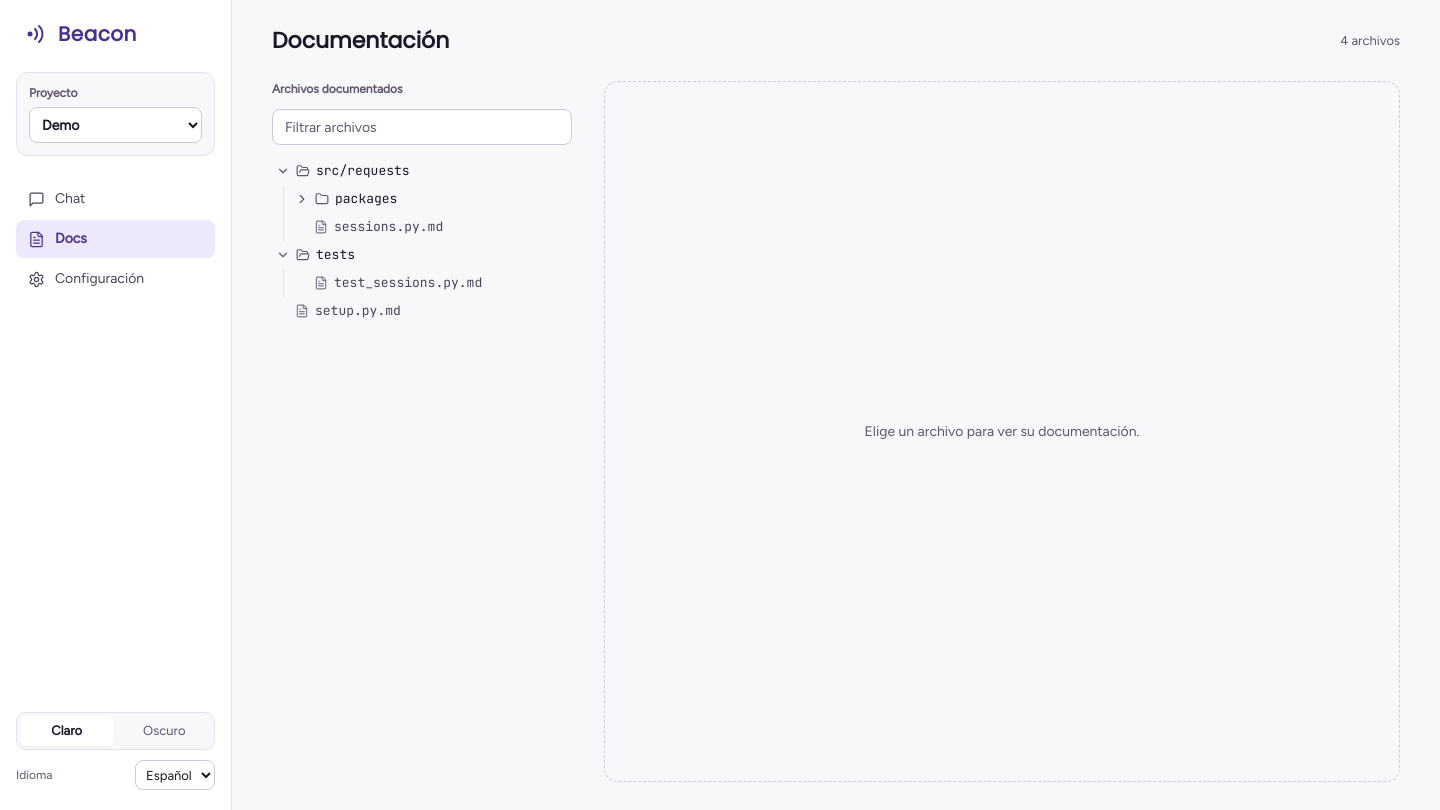
Scenario: documentación: árbol › al filtrar muestra también lo que está en carpetas cerradas
Expected: the button "src/requests" is shown, [272, 157, 572, 185]
Type "compat" into the search field labelled "Filtrar archivos" at (422, 127), box [272, 109, 572, 145]
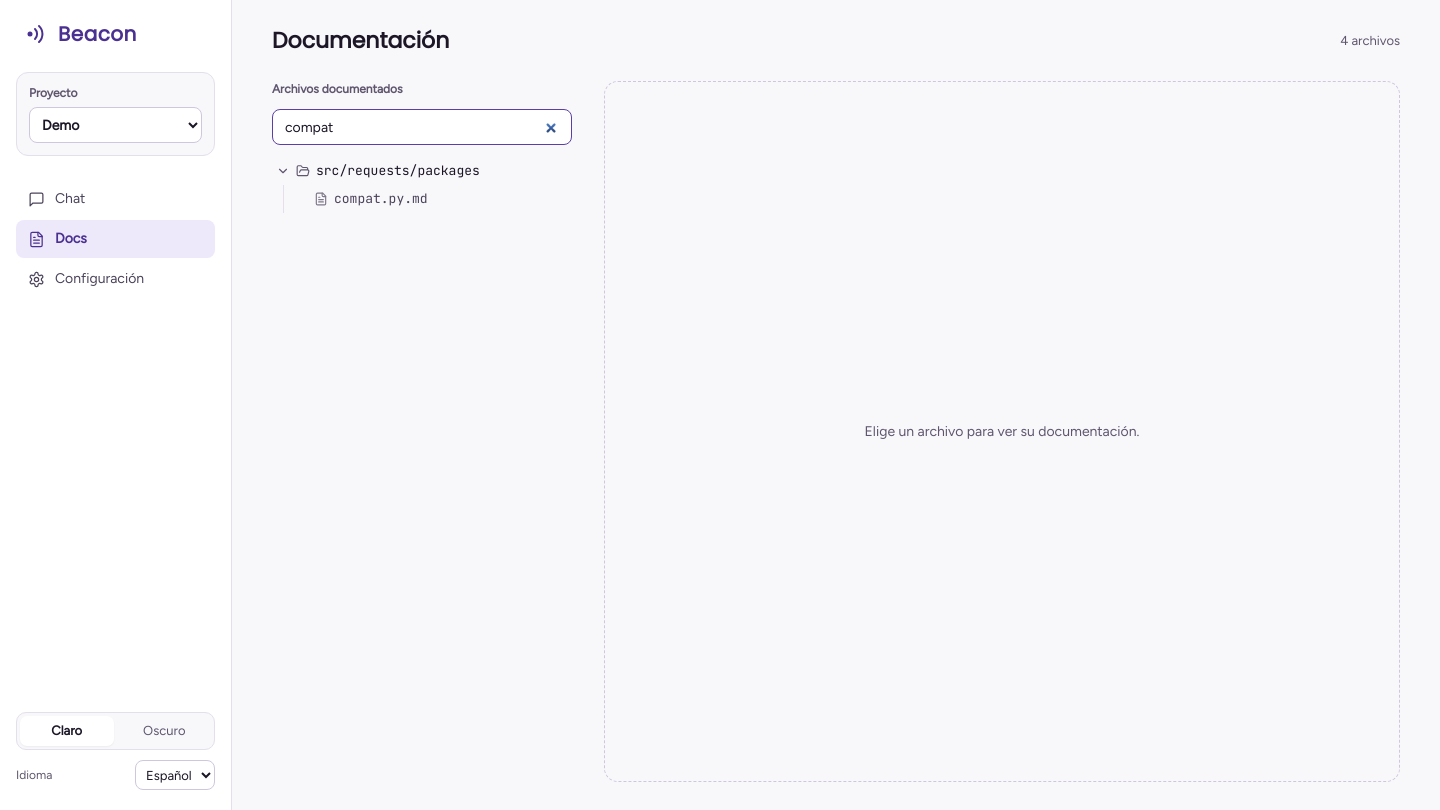
Result: the button with aria-label "src/requests/packages/compat.py.md" is shown at [291, 185, 572, 213]
Result: the button "setup.py.md" is gone
